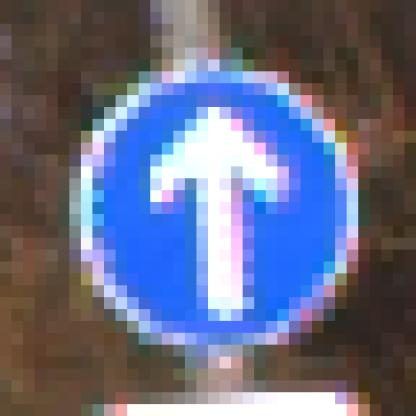AheadOnly: (59, 61, 359, 358)
